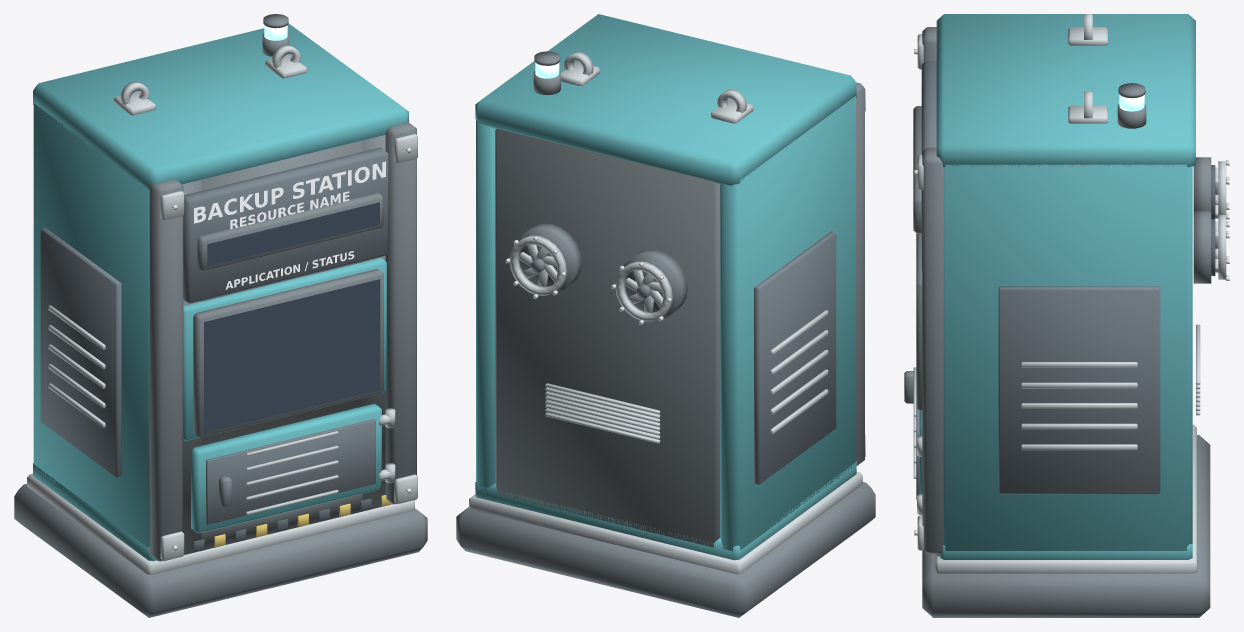
Rendered from backup_station_standard.glb.
The picture shows the model from 3 angles, left to right: view 1: azimuth 30°, elevation 25°; view 2: azimuth 150°, elevation 25°; view 3: azimuth 270°, elevation 25°; orthographic projection. The views are drawn at different scales.
Parts seen in each view (by area): view 1: Roof_teal, SideWall_teal, CornerPost_frame, LiveViewSurface_glass, Skid_frame, SideServicePanel_graphite, FrontHeader_graphite, DoorMoving_Inset_graphite, DoorMoving_Panel_teal, SkidDeck_steel, LiveViewSurfaceFrame_frame, ScreenSupport_teal (+16 smaller); view 2: BackWall_frame, SideWall_teal, Roof_teal, Skid_frame, SideServicePanel_graphite, SkidDeck_steel, RearFan_steel, KickPlate_teal, RearVent_steel, CornerPost_frame, RearFan_frame, SideLouver_steel (+3 smaller); view 3: SideWall_teal, Roof_teal, SideServicePanel_graphite, Skid_frame, CornerPost_frame, SkidDeck_steel, SideLouver_steel, RearFan_frame, KickPlate_teal, FrontHeader_graphite, RearFan_steel, LiftMount_steel (+7 smaller).
Part boxes in pixels (x1,y1,x2,y2): Roof_teal: (33,23,408,189); SideWall_teal: (33,103,149,547); CornerPost_frame: (149,121,416,561); LiveViewSurface_glass: (204,279,380,432); Skid_frame: (14,484,427,617); SideServicePanel_graphite: (40,227,121,477); FrontHeader_graphite: (183,147,388,303); DoorMoving_Inset_graphite: (206,419,375,524); DoorMoving_Panel_teal: (191,403,381,533); SkidDeck_steel: (27,473,414,574); LiveViewSurfaceFrame_frame: (193,269,383,437); ScreenSupport_teal: (183,258,386,441); BackWall_frame: (495,128,720,547); SideWall_teal: (476,96,855,551); Roof_teal: (475,14,856,185); Skid_frame: (456,482,875,617); SideServicePanel_graphite: (754,231,836,484); SkidDeck_steel: (469,471,862,574); RearFan_steel: (509,235,672,321); KickPlate_teal: (475,461,856,560); RearVent_steel: (545,383,660,443); CornerPost_frame: (856,82,864,465); RearFan_frame: (518,223,687,319); SideLouver_steel: (770,310,828,434); SideWall_teal: (943,164,1192,550); Roof_teal: (936,14,1195,167); SideServicePanel_graphite: (998,286,1160,494); Skid_frame: (922,435,1210,617); CornerPost_frame: (922,27,943,553); SkidDeck_steel: (935,424,1196,573); SideLouver_steel: (1021,362,1137,450); RearFan_frame: (1193,157,1211,283); KickPlate_teal: (940,544,1192,559); FrontHeader_graphite: (921,60,936,269); RearFan_steel: (1215,161,1226,279); LiftMount_steel: (1068,27,1107,123).
Size of the model in its own units: 1.6 by 2.53 by 1.48.
